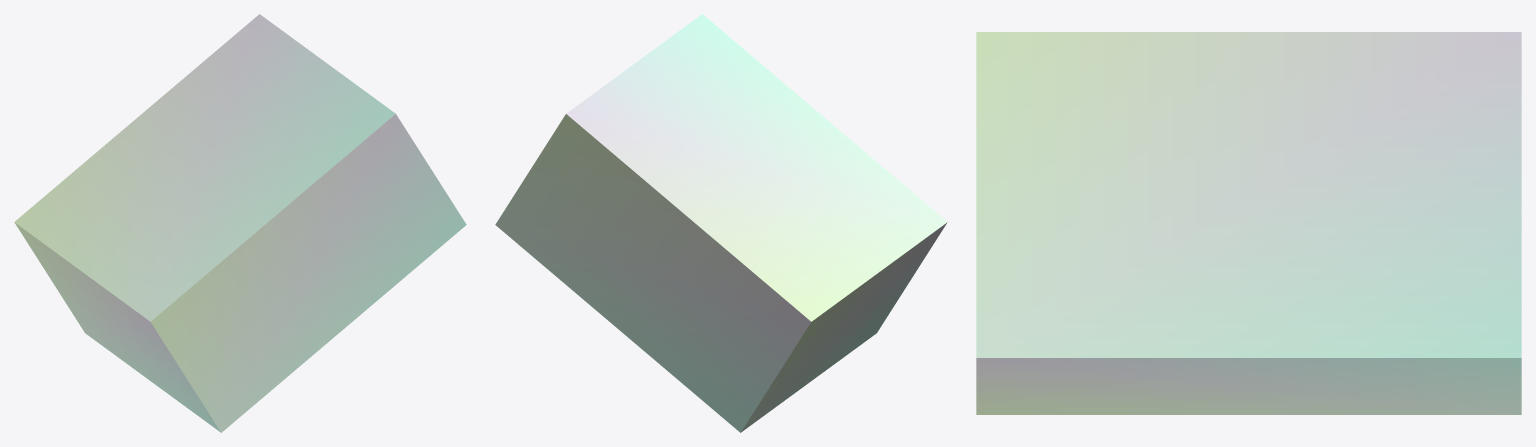
Rendered from gltf-textured-external-cube.gltf.
3 renders of one model, left to right at view 1: azimuth 30°, elevation 25°; view 2: azimuth 150°, elevation 25°; view 3: azimuth 270°, elevation 25°, orthographic. The views are drawn at different scales.
Size of the model in its own units: 3.35 by 2.8 by 2.5.
